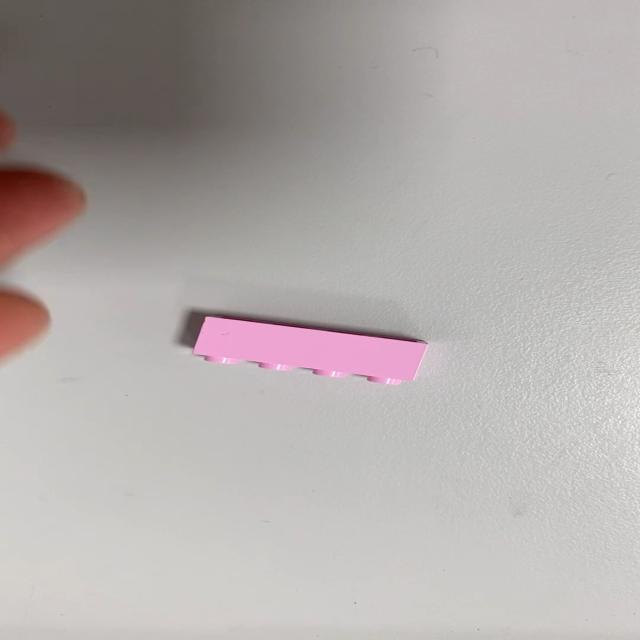C4x1x1: (191, 314, 429, 386)
